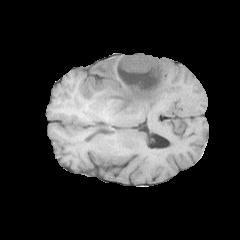glioma: (79, 53, 182, 115)
